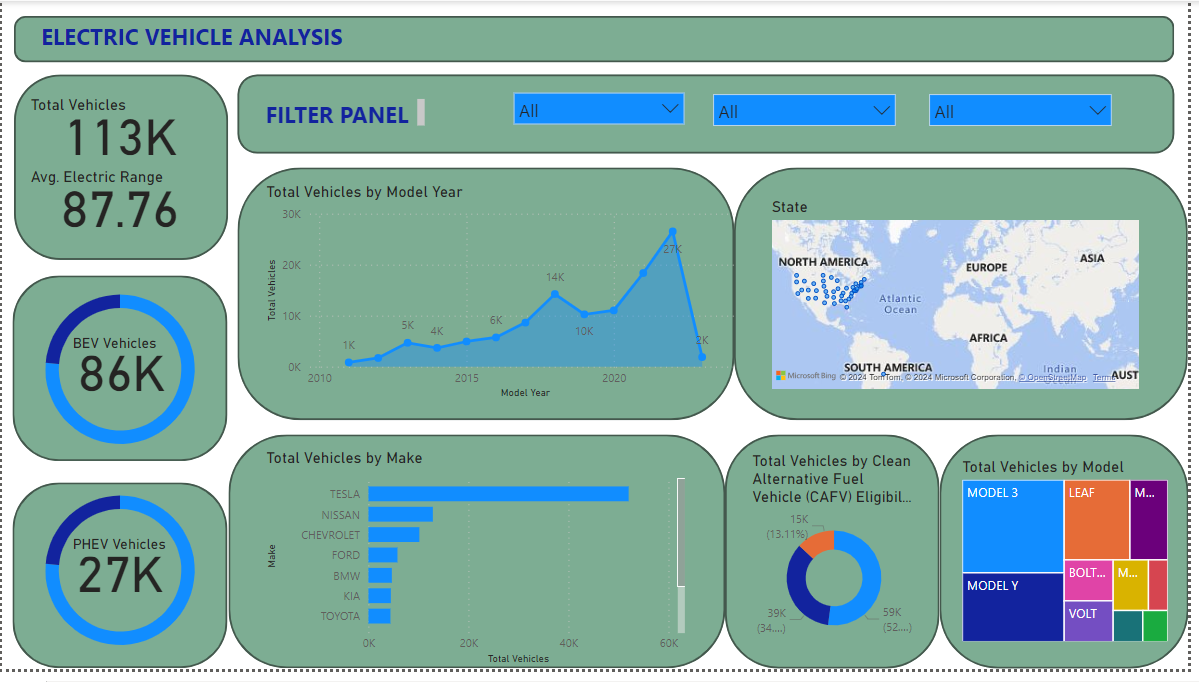

What the dashboard file says about the page in this screenshot:
{"tool":"powerbi","page":{"name":"Page 1","canvas":[1280,720],"ordinal":0},"visuals":[{"type":"shape","box":[13,16.7,1251.6,50.1],"z":0},{"type":"textbox","box":[37.2,16.2,346.2,45.3],"z":1000},{"type":"shape","box":[13,79.7,231,200],"z":2000},{"type":"card","title":"Total Vehicles","fields":{"Values":["Electric_Vehicle_Population_Data.Total Vehicles"]},"box":[26,102,202.1,77.9],"z":3000},{"type":"card","title":"Avg. Electric Range","fields":{"Values":["Avg(Electric_Vehicle_Population_Data.Electric Range)"]},"box":[26,179.9,202.1,77.9],"z":4000},{"type":"shape","box":[11.1,296.7,231.8,200.3],"z":5000},{"type":"shape","box":[11.1,519.2,231.8,200.3],"z":6000},{"type":"donutChart","fields":{"Category":["Electric_Vehicle_Population_Data.Electric Vehicle Type"],"Y":["Electric_Vehicle_Population_Data.Total Vehicles"]},"box":[0,291.1,254,211.4],"z":7000},{"type":"card","title":"BEV Vehicles","fields":{"Values":["Electric_Vehicle_Population_Data.BEV Vehicle"]},"box":[70.5,359.7,115,74.2],"z":8000},{"type":"donutChart","fields":{"Category":["Electric_Vehicle_Population_Data.Electric Vehicle Type"],"Y":["Electric_Vehicle_Population_Data.Total Vehicles"]},"box":[0,508,254,211.4],"z":9000},{"type":"card","title":"PHEV Vehicles","fields":{"Values":["Electric_Vehicle_Population_Data.PHEV Vehicle"]},"box":[70.5,576.7,111.3,74.2],"z":10000},{"type":"shape","box":[254,79.7,1010.5,85.3],"z":11000},{"type":"shape","box":[254,179.9,535.9,272.6],"z":12000},{"type":"areaChart","fields":{"Category":["Electric_Vehicle_Population_Data.Model Year"],"Y":["Electric_Vehicle_Population_Data.Total Vehicles"]},"box":[280,196.5,524.7,237.3],"z":13000},{"type":"shape","box":[789.9,179.9,489.5,272.6],"z":14000},{"type":"map","fields":{"Category":["Electric_Vehicle_Population_Data.State"]},"box":[825.1,211.4,406.1,211.4],"z":15000},{"type":"shape","box":[244.8,467.3,535.9,252.2],"z":16000},{"type":"barChart","fields":{"Category":["Electric_Vehicle_Population_Data.Make"],"Y":["Electric_Vehicle_Population_Data.Total Vehicles"]},"box":[280,482.1,461.7,237.3],"z":17000},{"type":"shape","box":[779.9,467.6,231.4,252.4],"z":17001},{"type":"donutChart","fields":{"Category":["Electric_Vehicle_Population_Data.Clean Alternative Fuel Vehicle (CAFV) Eligibility"],"Y":["Electric_Vehicle_Population_Data.Total Vehicles"]},"box":[804.1,485.4,186.1,215.2],"z":17002},{"type":"shape","box":[1011.2,467.6,268.6,252.4],"z":17003},{"type":"treemap","fields":{"Group":["Electric_Vehicle_Population_Data.Model"],"Values":["Electric_Vehicle_Population_Data.Total Vehicles"]},"box":[1030.7,491.9,231.4,203.9],"z":17004},{"type":"textbox","box":[279.9,100.3,181.2,40.4],"z":17005},{"type":"slicer","fields":{"Values":["Electric_Vehicle_Population_Data.City"]},"box":[542,89,203.9,64.7],"z":17006},{"type":"slicer","fields":{"Values":["Electric_Vehicle_Population_Data.Electric Utility"]},"box":[757.2,90.6,216.8,64.7],"z":17007},{"type":"slicer","fields":{"Values":["Electric_Vehicle_Population_Data.Electric Vehicle Type"]},"box":[990.2,90.6,216.8,64.7],"z":17008}]}

Visuals, with their boxes in screenshot pixels (x1, y1, x2, y2), scaled from the page's 1280x720 canvas onto the 1199x682 screenshot:
shape: 12/16/1185/63
textbox: 35/15/359/58
shape: 12/75/229/265
"Total Vehicles" card: 24/97/214/170
"Avg. Electric Range" card: 24/170/214/244
shape: 10/281/228/471
shape: 10/492/228/681
donutChart - Electric_Vehicle_Population_Data.Electric Vehicle Type x Electric_Vehicle_Population_Data.Total Vehicles: 0/276/238/476
"BEV Vehicles" card: 66/341/174/411
donutChart - Electric_Vehicle_Population_Data.Electric Vehicle Type x Electric_Vehicle_Population_Data.Total Vehicles: 0/481/238/681
"PHEV Vehicles" card: 66/546/170/617
shape: 238/75/1184/156
shape: 238/170/740/429
areaChart - Electric_Vehicle_Population_Data.Model Year x Electric_Vehicle_Population_Data.Total Vehicles: 262/186/754/411
shape: 740/170/1198/429
map - Electric_Vehicle_Population_Data.State: 773/200/1153/400
shape: 229/443/731/681
barChart - Electric_Vehicle_Population_Data.Make x Electric_Vehicle_Population_Data.Total Vehicles: 262/457/695/681
shape: 731/443/947/681
donutChart - Electric_Vehicle_Population_Data.Clean Alternative Fuel Vehicle (CAFV) Eligibility x Electric_Vehicle_Population_Data.Total Vehicles: 753/460/928/664
shape: 947/443/1198/681
treemap - Electric_Vehicle_Population_Data.Model x Electric_Vehicle_Population_Data.Total Vehicles: 965/466/1182/659
textbox: 262/95/432/133
slicer - Electric_Vehicle_Population_Data.City: 508/84/699/146
slicer - Electric_Vehicle_Population_Data.Electric Utility: 709/86/912/147
slicer - Electric_Vehicle_Population_Data.Electric Vehicle Type: 928/86/1131/147
